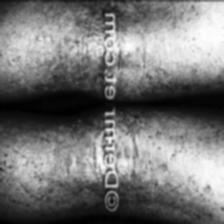Non-Cancerous Skin Condition: (136, 114, 224, 213), (0, 121, 96, 211), (0, 5, 94, 82), (136, 2, 224, 82)
